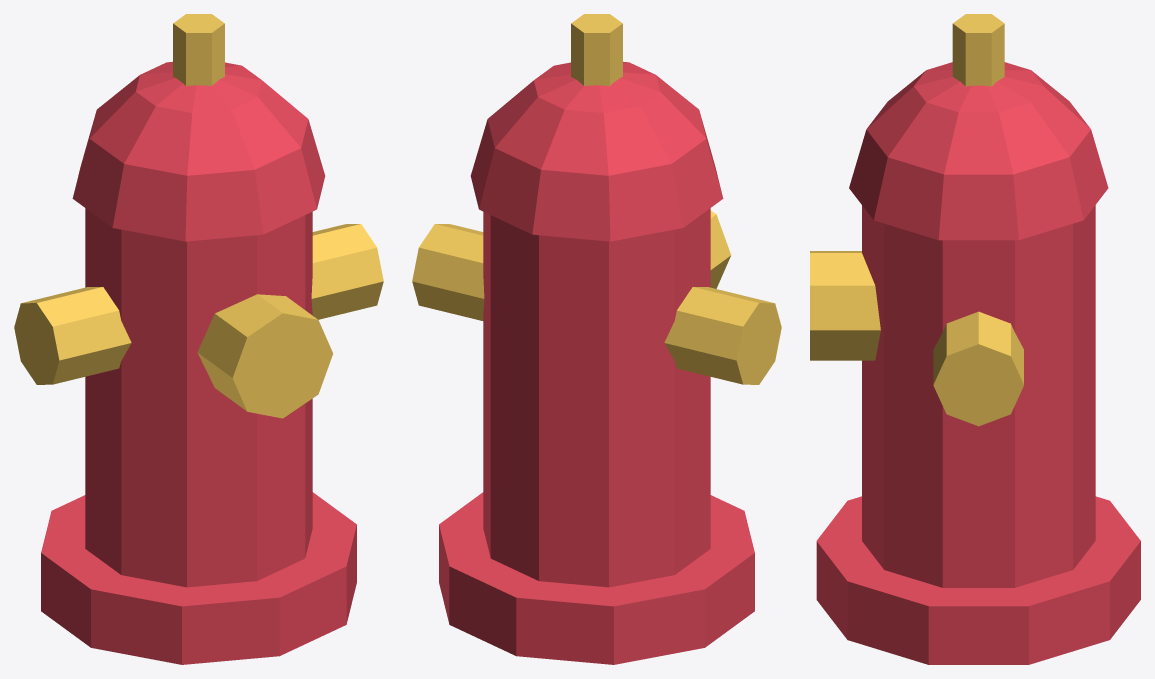
File: prop_hydrant.glb
3 views of the same model, side by side, from view 1: azimuth 30°, elevation 25°; view 2: azimuth 150°, elevation 25°; view 3: azimuth 270°, elevation 25° (orthographic).
Parts seen in each view (by area): view 1: prop_hydrant; view 2: prop_hydrant; view 3: prop_hydrant.
Boxes of the visible parts, <box> form: prop_hydrant: <box>14,14,383,664</box>; prop_hydrant: <box>412,14,781,664</box>; prop_hydrant: <box>810,14,1140,664</box>.
Bounding box in the file's own units: 0.58 × 0.98 × 0.51.
